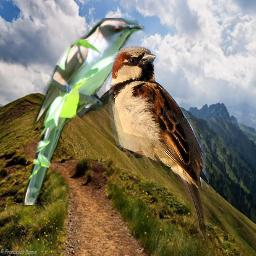Cuckoo: (23, 18, 145, 205)
Swallow: (108, 46, 209, 240)
